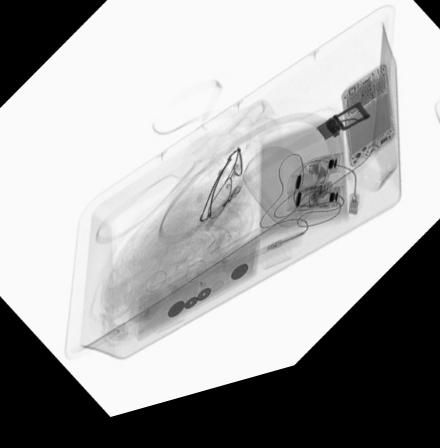Lighter: (204, 200, 245, 243)
